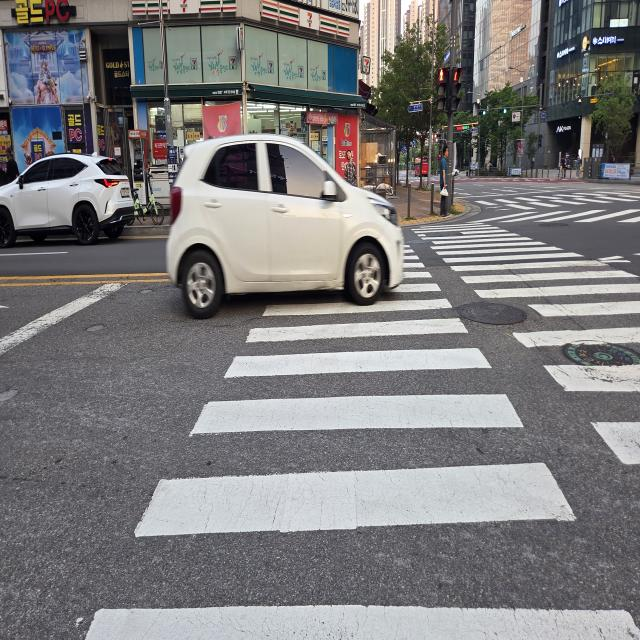car: (160, 100, 409, 328), (0, 128, 152, 271)
